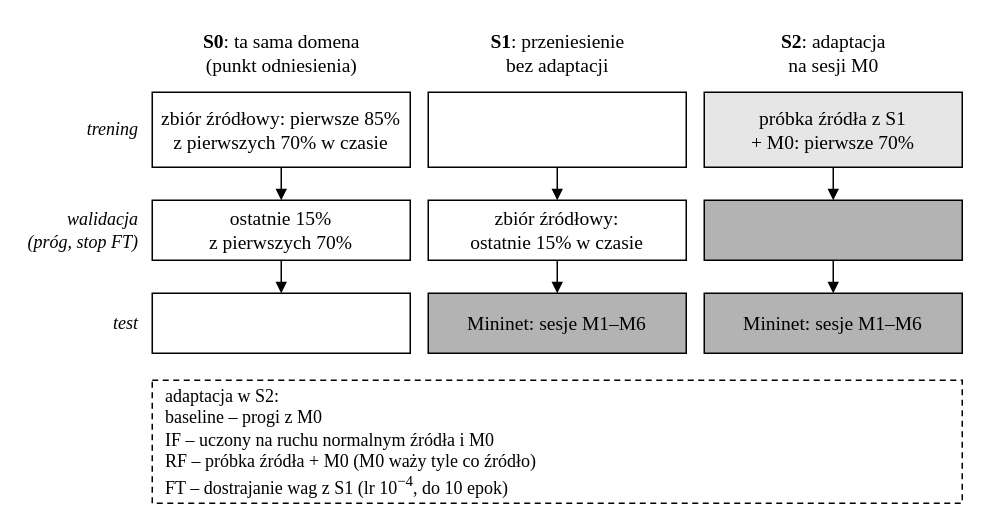
This 989x530 diagram has some shape labels left out. Each missing label, with the centre of its shape:
M0: ostatnie 30%: the point at 832,229
zbiór źródłowy: ostatnie 30% w czasie: the point at 280,322
zbiór źródłowy: pierwsze 85% w czasie: the point at 556,129
